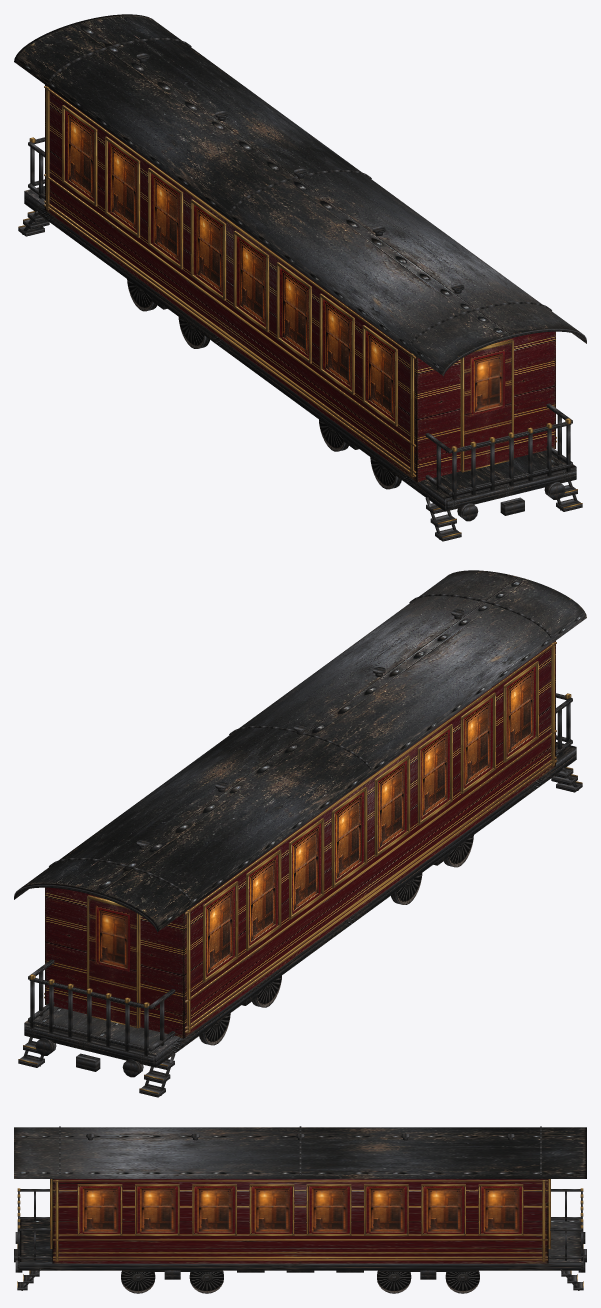
The model's file is passenger_carriage.glb.
3 views of the same model, one above another, from view 1: azimuth 30°, elevation 25°; view 2: azimuth 150°, elevation 25°; view 3: azimuth 270°, elevation 25° (orthographic). The views are drawn at different scales.
Visible parts, largest first — view 1: barrel_roof, carriage_body, main_underframe, front_door, side_window_left_0, side_window_left_1, side_window_left_5, side_window_left_2, side_window_left_4, side_window_left_6, side_window_left_7, side_window_left_3 (+6 smaller); view 2: barrel_roof, carriage_body, main_underframe, rear_door, side_window_left_2, side_window_left_6, side_window_left_7, side_window_left_0, side_window_left_1, side_window_left_3, side_window_left_5, side_window_left_4 (+6 smaller); view 3: barrel_roof, carriage_body, main_underframe, side_window_right_2, side_window_right_5, side_window_right_0, side_window_right_1, side_window_right_3, side_window_right_4, side_window_right_6, side_window_right_7, right_long_gold_lining_1 (+9 smaller).
Boxes of the visible parts, left/top/right/bottom form: barrel_roof: left=14, top=14, right=586, bottom=377; carriage_body: left=45, top=85, right=555, bottom=482; main_underframe: left=24, top=186, right=576, bottom=511; front_door: left=464, top=343, right=511, bottom=470; side_window_left_0: left=365, top=330, right=394, bottom=421; side_window_left_1: left=322, top=298, right=351, bottom=390; side_window_left_5: left=151, top=173, right=180, bottom=264; side_window_left_2: left=279, top=267, right=308, bottom=358; side_window_left_4: left=193, top=204, right=222, bottom=295; side_window_left_6: left=108, top=141, right=137, bottom=232; side_window_left_7: left=65, top=110, right=94, bottom=201; side_window_left_3: left=236, top=236, right=265, bottom=327; barrel_roof: left=14, top=570, right=586, bottom=933; carriage_body: left=45, top=641, right=555, bottom=1038; main_underframe: left=24, top=742, right=576, bottom=1067; rear_door: left=89, top=899, right=136, bottom=1026; side_window_left_2: left=420, top=729, right=449, bottom=820; side_window_left_6: left=249, top=854, right=278, bottom=946; side_window_left_7: left=206, top=886, right=235, bottom=977; side_window_left_0: left=506, top=666, right=535, bottom=757; side_window_left_1: left=463, top=697, right=492, bottom=788; side_window_left_3: left=378, top=760, right=407, bottom=851; side_window_left_5: left=292, top=823, right=321, bottom=914; side_window_left_4: left=335, top=792, right=364, bottom=883; barrel_roof: left=14, top=1127, right=586, bottom=1178; carriage_body: left=52, top=1179, right=548, bottom=1263; main_underframe: left=19, top=1219, right=581, bottom=1270; side_window_right_2: left=193, top=1186, right=235, bottom=1233; side_window_right_5: left=365, top=1186, right=407, bottom=1233; side_window_right_0: left=79, top=1186, right=120, bottom=1233; side_window_right_1: left=136, top=1186, right=177, bottom=1233; side_window_right_3: left=251, top=1186, right=292, bottom=1233; side_window_right_4: left=308, top=1186, right=349, bottom=1233; side_window_right_6: left=423, top=1186, right=464, bottom=1233; side_window_right_7: left=480, top=1186, right=521, bottom=1233; right_long_gold_lining_1: left=53, top=1256, right=547, bottom=1258.
Bounding box in the file's own units: 2.9 × 4.2 × 15.
5 materials, 5 textured.
